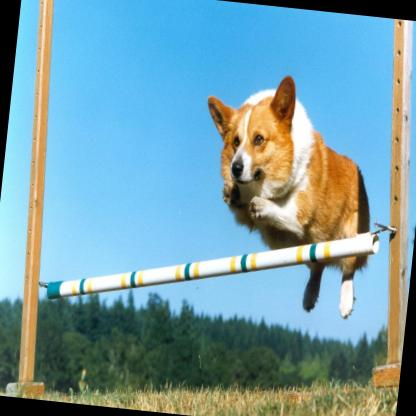Cardigan: (184, 61, 388, 320)
